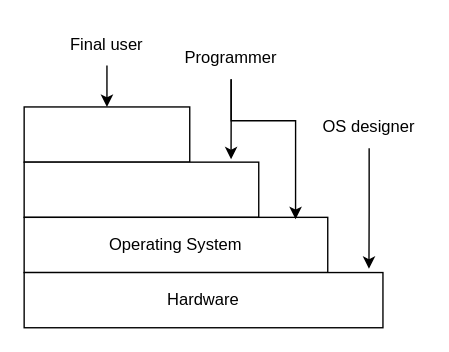
Image size: 449x352. Some labels were removed from this diagram. Each missing label, with the centre of its shape:
Applications: (106,134)
Utilities: (141,189)
